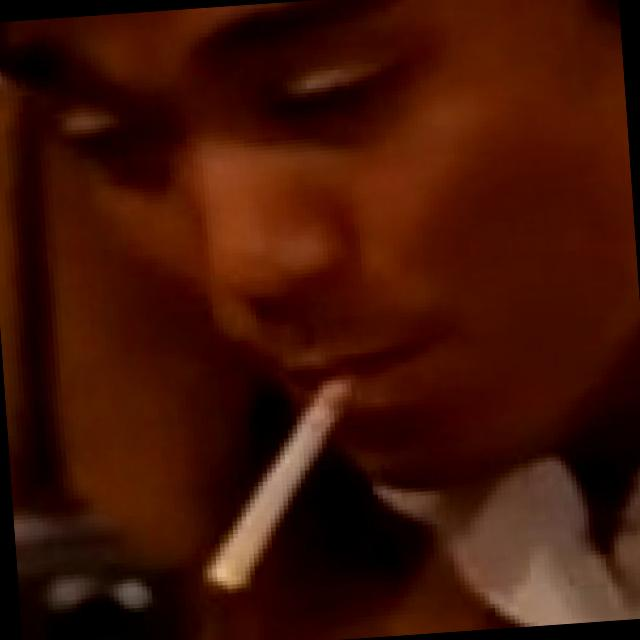smoke: (178, 370, 381, 614)
